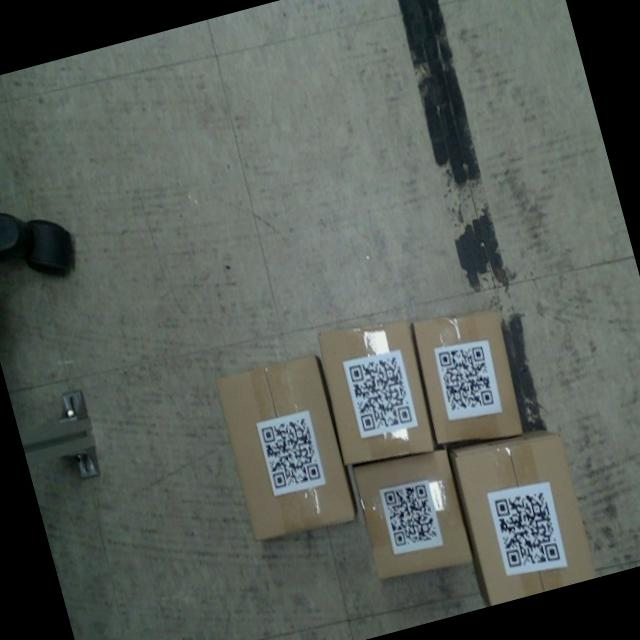box: (206, 346, 363, 550), (446, 417, 599, 606), (310, 305, 446, 476), (402, 298, 532, 456), (344, 444, 481, 590)
